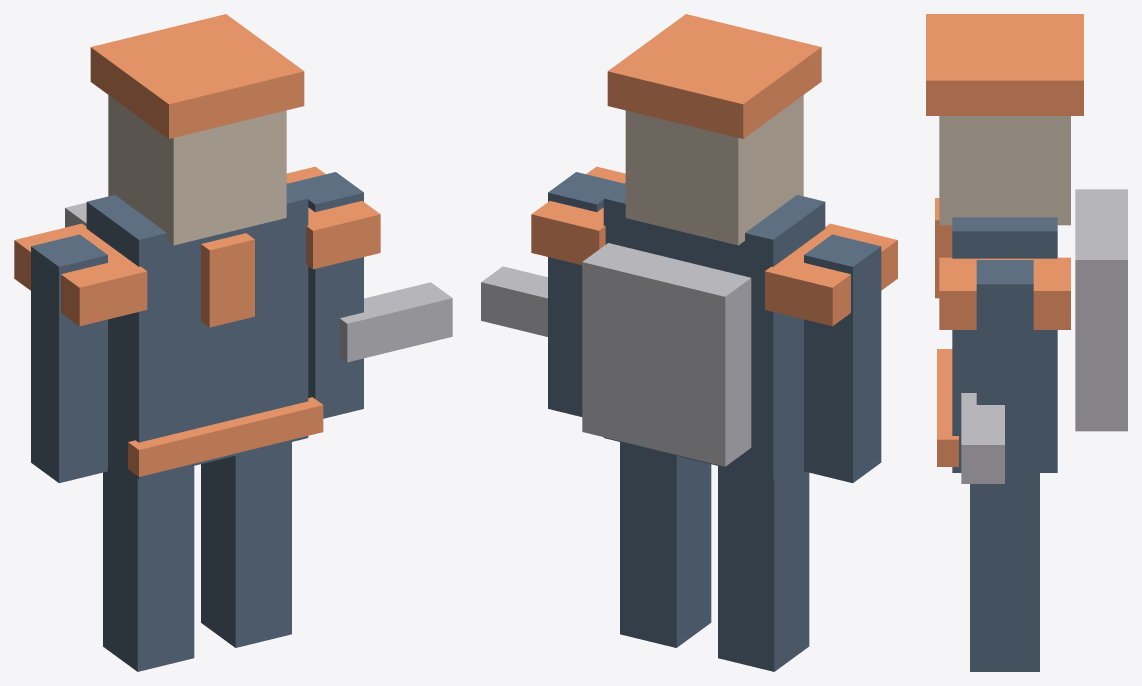
The model's file is 19_noor_deepwell_diver_of_cargo.glb.
3 renders of one model, left to right at view 1: azimuth 30°, elevation 25°; view 2: azimuth 150°, elevation 25°; view 3: azimuth 270°, elevation 25°, orthographic.
Parts seen in each view (by area): view 1: Noor Deepwell, Diver of Cargo; view 2: Noor Deepwell, Diver of Cargo; view 3: Noor Deepwell, Diver of Cargo.
Part boxes in pixels (<box>): Noor Deepwell, Diver of Cargo: <box>14,14,452,671</box>; Noor Deepwell, Diver of Cargo: <box>481,14,897,671</box>; Noor Deepwell, Diver of Cargo: <box>926,14,1127,671</box>.
Bounding box in the file's own units: 1.1 × 1.59 × 0.4954.
